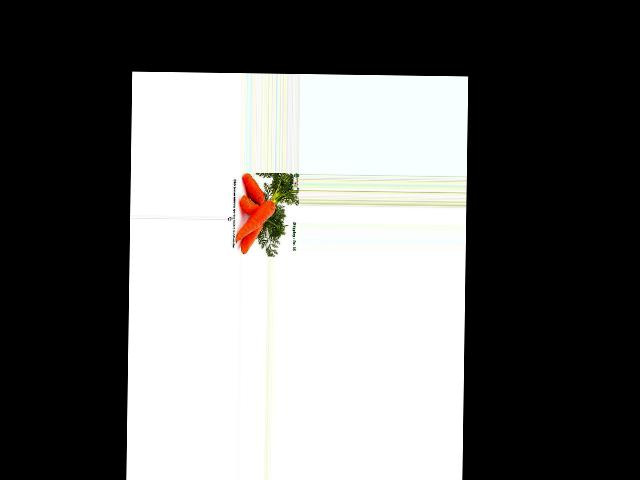carrot: (241, 173, 268, 205)
